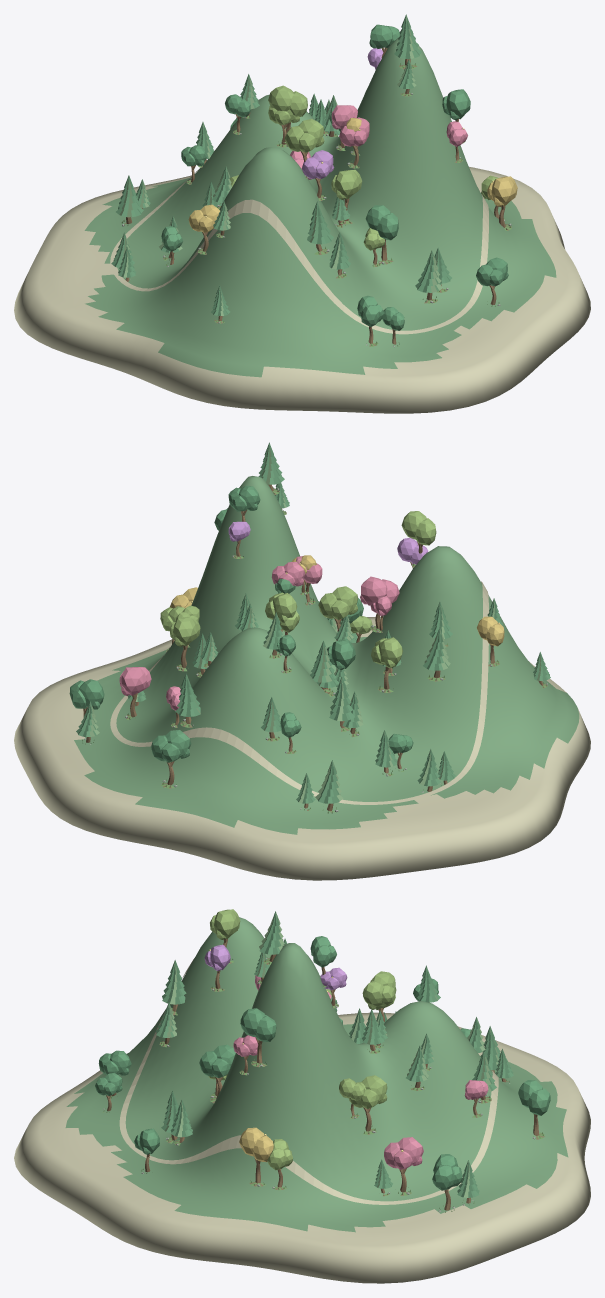
The model's file is green_0.glb.
The picture shows the model from 3 angles, top to bottom: view 1: azimuth 30°, elevation 25°; view 2: azimuth 150°, elevation 25°; view 3: azimuth 270°, elevation 25°; orthographic projection.
Parts seen in each view (by area): view 1: Green island with submerged coast; view 2: Green island with submerged coast; view 3: Green island with submerged coast.
Boxes of the visible parts, left/top/right/bottom form: Green island with submerged coast: left=14, top=14, right=590, bottom=413; Green island with submerged coast: left=14, top=442, right=590, bottom=880; Green island with submerged coast: left=14, top=909, right=590, bottom=1283.
Bounding box in the file's own units: 54.07 × 28.21 × 52.58.
